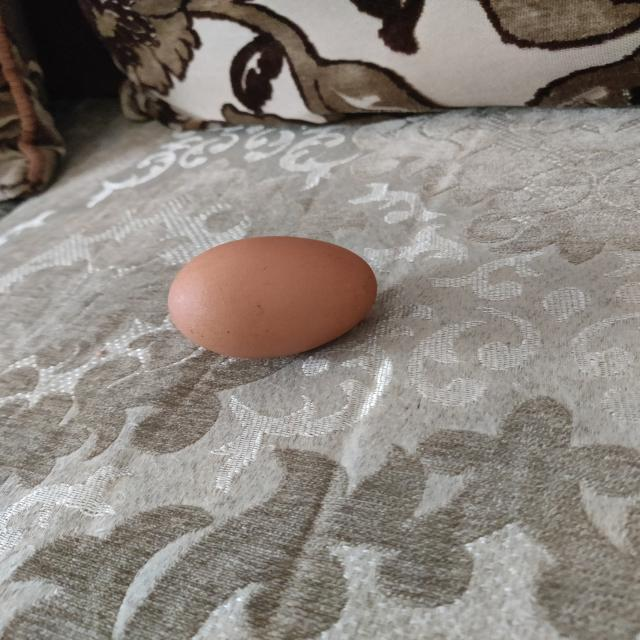egg: (160, 234, 381, 362)
